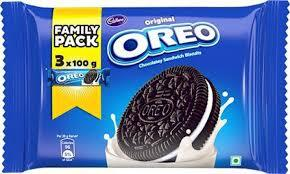VEG: (229, 154, 243, 167)
